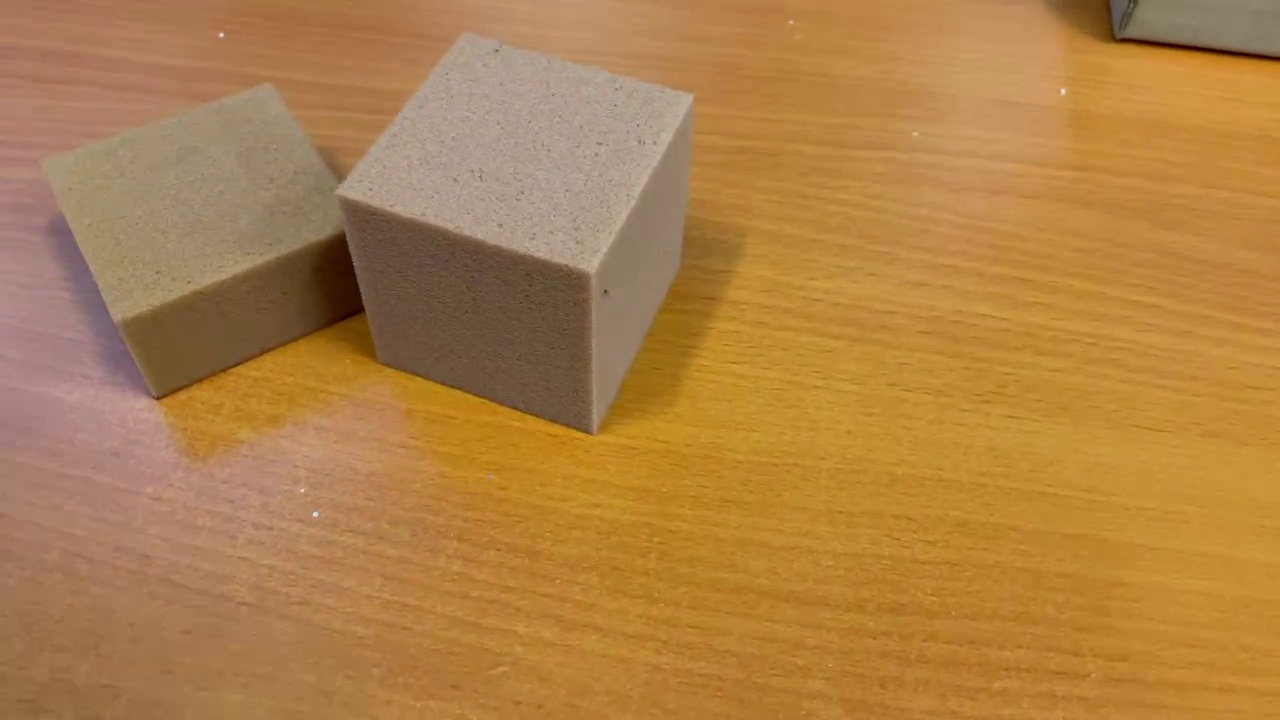Cube: (329, 21, 713, 446)
Cube_short: (34, 77, 365, 405)
